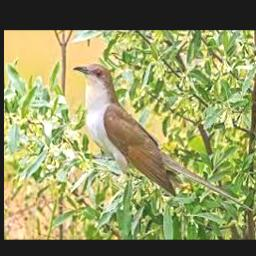Cuckoo: (72, 63, 253, 212)
